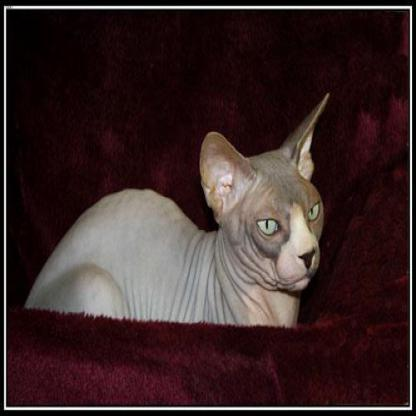cat: (23, 90, 328, 328)
